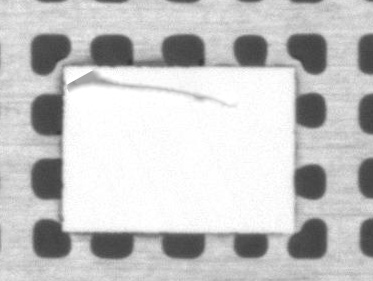DIE_INK: (66, 69, 232, 109)
